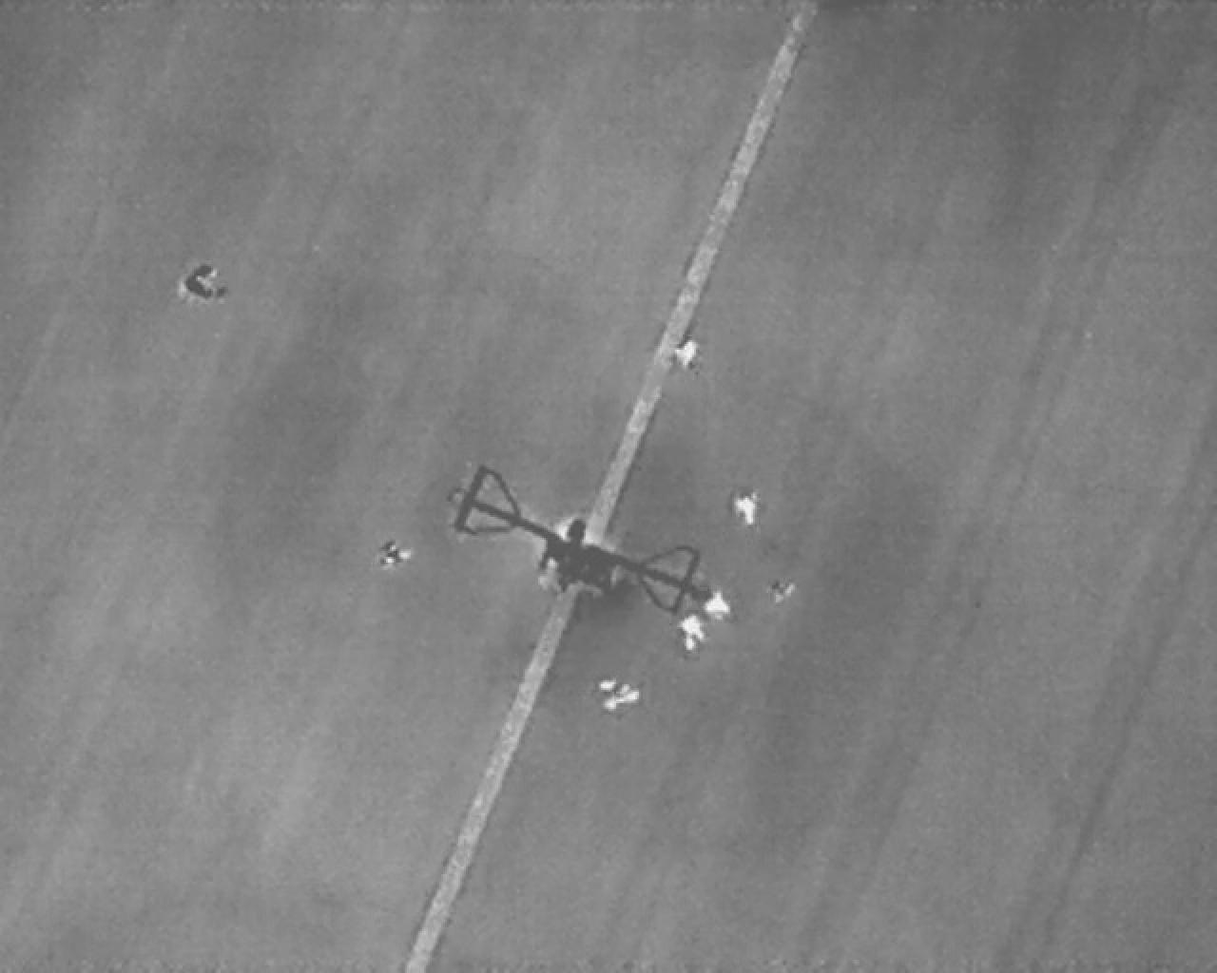person: (178, 265, 231, 305), (600, 677, 644, 715), (668, 334, 706, 373), (376, 539, 417, 573), (705, 588, 735, 626), (678, 611, 705, 653), (733, 489, 756, 529), (767, 579, 796, 607)
